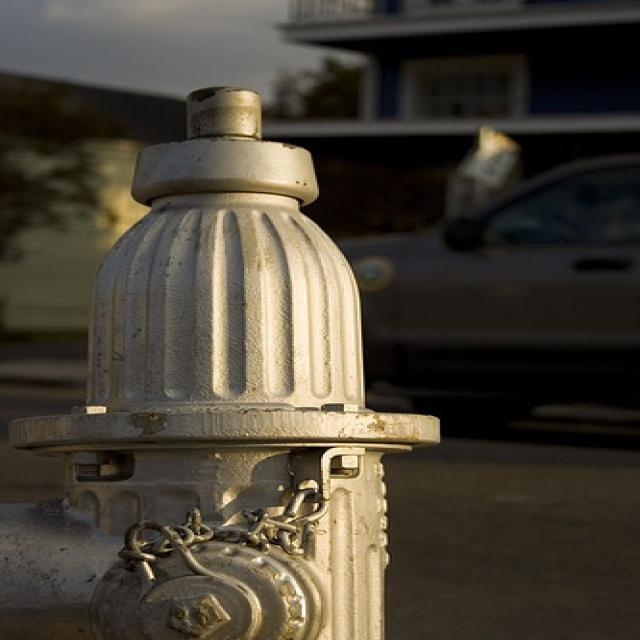fire_hydrant: (2, 88, 442, 639)
